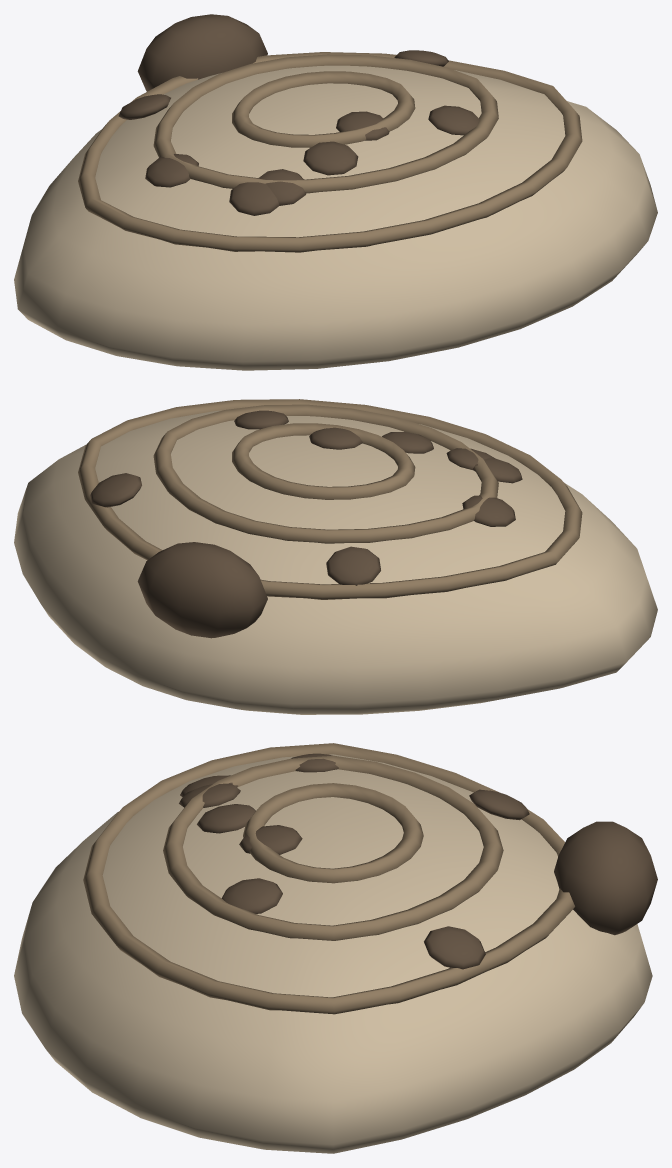
Rendered from sea-manila-clam.glb.
3 views of the same model, one above another, from view 1: azimuth 30°, elevation 25°; view 2: azimuth 150°, elevation 25°; view 3: azimuth 270°, elevation 25° (orthographic). The views are drawn at different scales.
Visible parts, largest first — view 1: shell; view 2: shell; view 3: shell.
Boxes of the visible parts, box(x1,y1,x2,y2) form: shell: box(14, 14, 657, 370); shell: box(14, 399, 657, 714); shell: box(14, 743, 657, 1153).
Size of the model in its own units: 0.186 by 0.0536 by 0.15.
